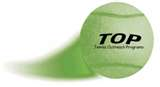tennis ball: (78, 2, 156, 81)
